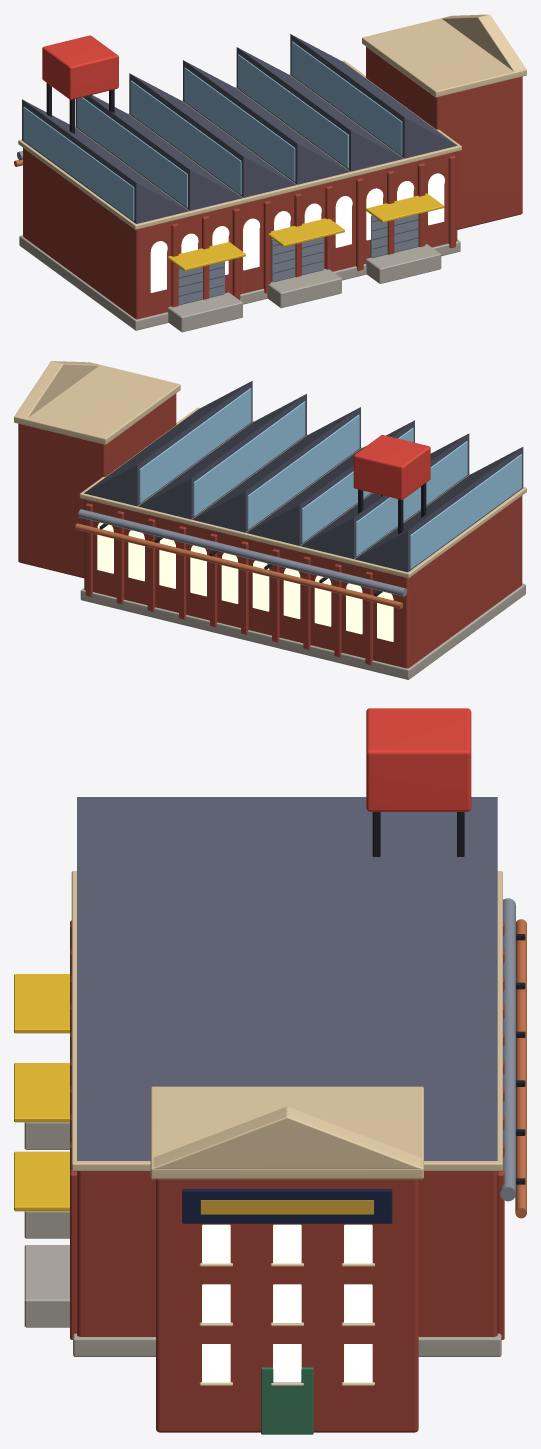
The model's file is factory.glb.
3 views of the same model, one above another, from view 1: azimuth 30°, elevation 25°; view 2: azimuth 150°, elevation 25°; view 3: azimuth 270°, elevation 25° (orthographic). The views are drawn at different scales.
Visible parts, largest first — view 1: factory; view 2: factory; view 3: factory.
Boxes of the visible parts, <box> form: factory: <box>14,14,526,332</box>; factory: <box>14,361,526,679</box>; factory: <box>14,708,526,1434</box>.
Bounding box in the file's own units: 33.43 × 15.6 × 19.52.
Materials: 1 (1 with a texture image).
